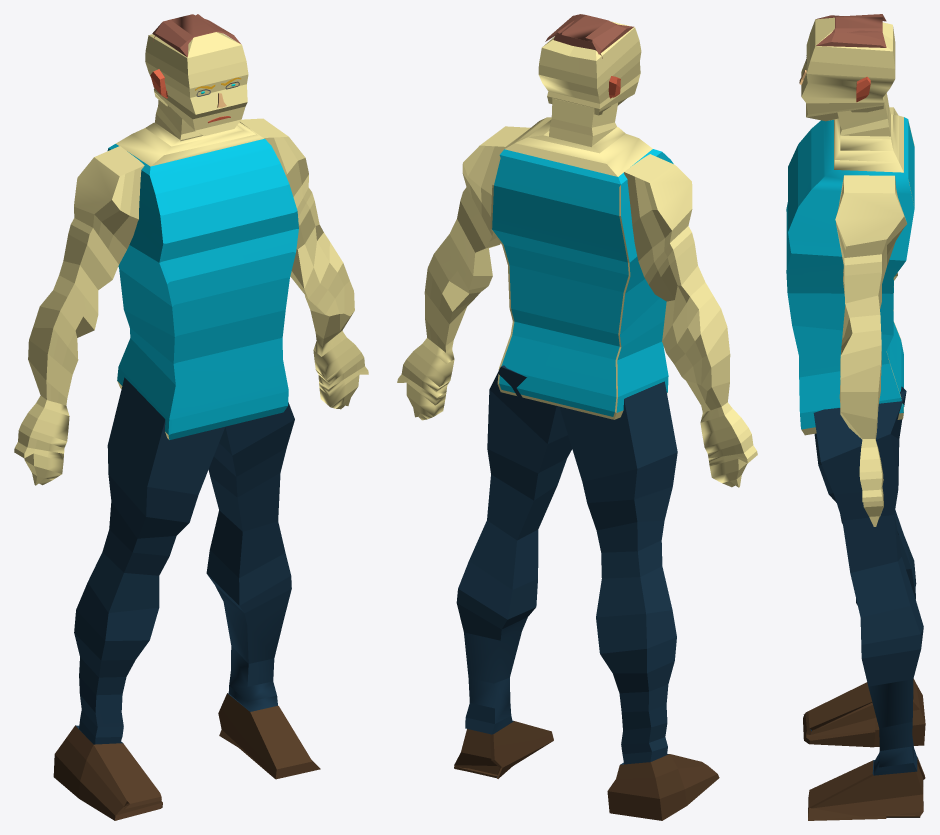
Rendered from Player.fbx.
The picture shows the model from 3 angles, left to right: view 1: azimuth 30°, elevation 25°; view 2: azimuth 150°, elevation 25°; view 3: azimuth 270°, elevation 25°; orthographic projection.
Visible parts, largest first — view 1: Cube.004; view 2: Cube.004; view 3: Cube.004.
Boxes of the visible parts, bbox=[...] form: Cube.004: bbox=[14, 14, 368, 820]; Cube.004: bbox=[397, 14, 757, 820]; Cube.004: bbox=[786, 14, 925, 820].
Bounding box in the file's own units: 156 × 323 × 54.25.
